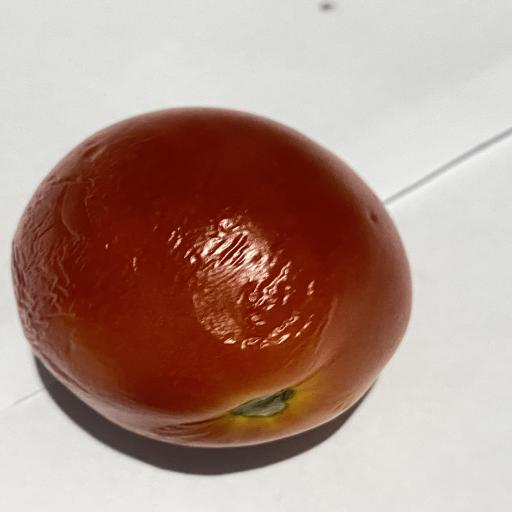spoiled: (12, 108, 411, 447)
